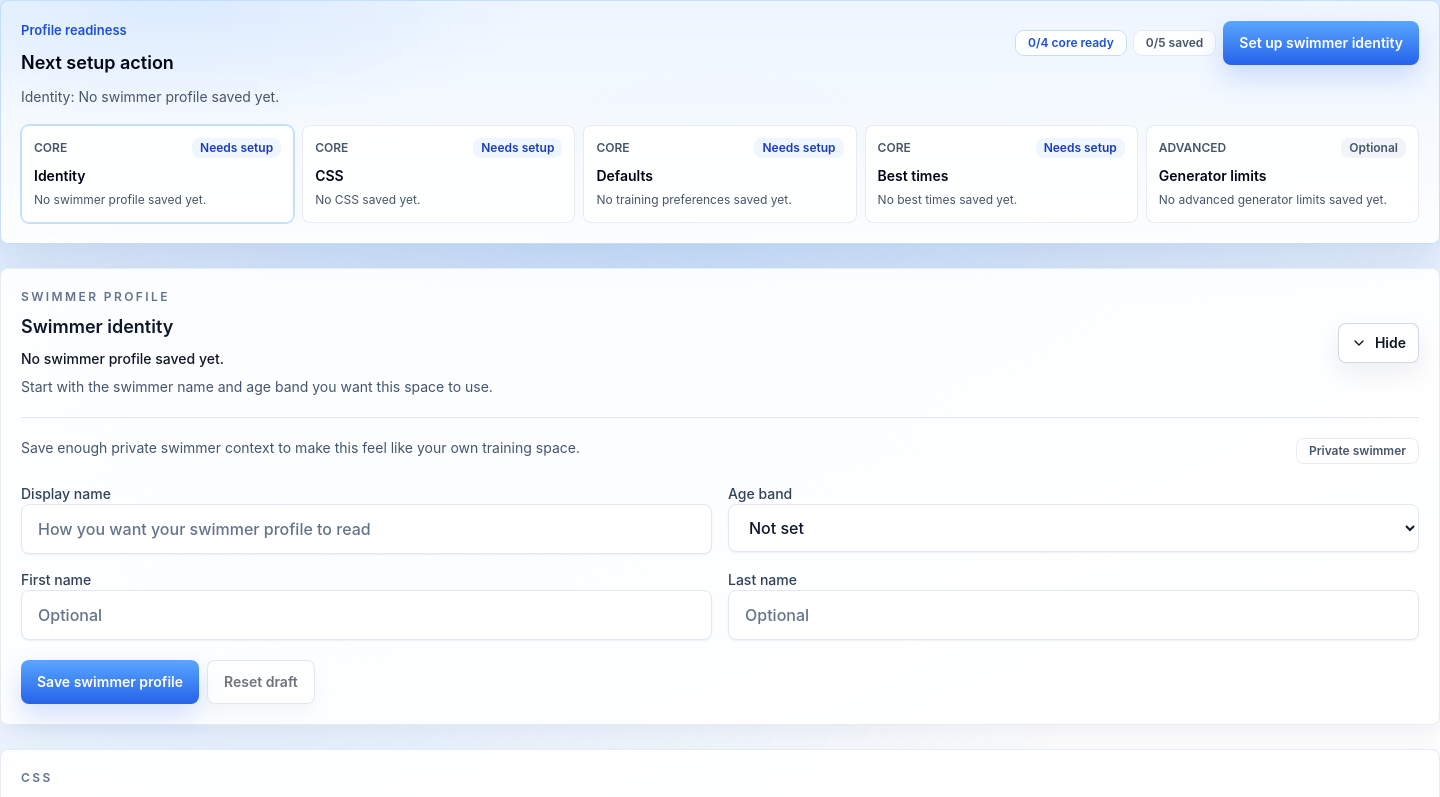
Test: AthleteProfileHub › keeps the profile section open when save fails
This screenshot has width=1440, height=797.
Type "Poolside Stian" into the field with test id "athlete-profile-display-name".
click(366, 528); type("Poolside Stian")  # box left=21, top=504, right=712, bottom=554
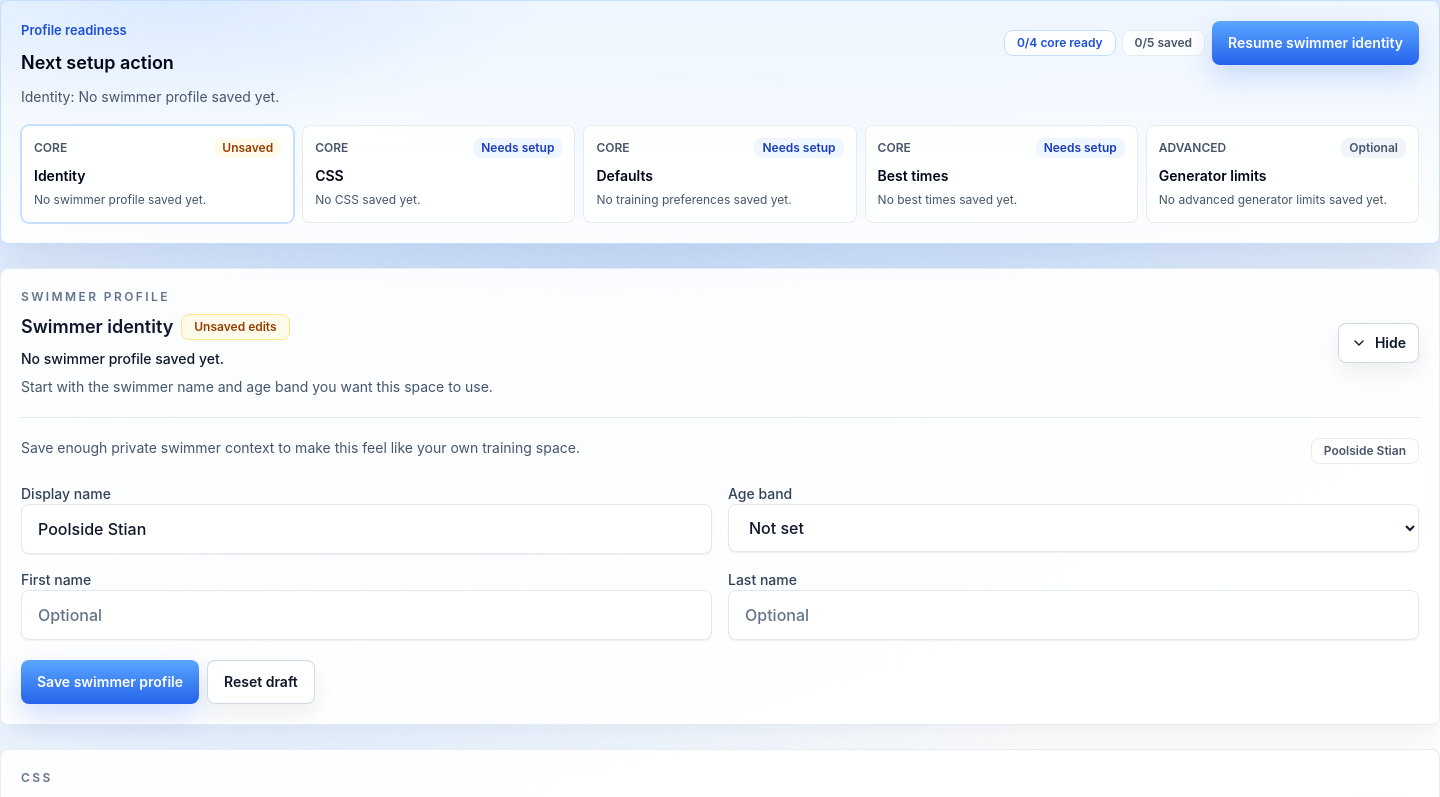
Click the button with test id "athlete-profile-save".
click(110, 682)  # box left=21, top=660, right=199, bottom=704
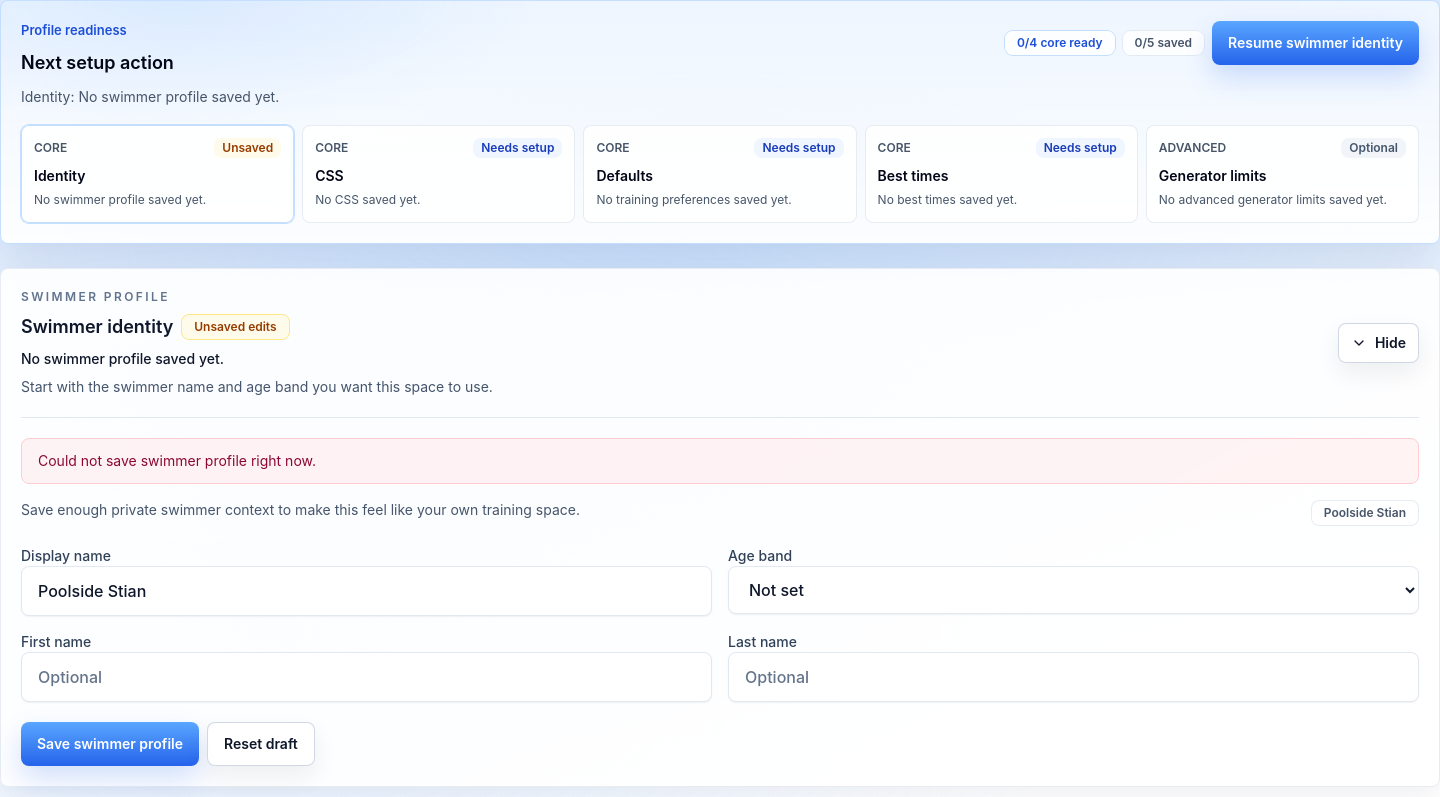
Now the text "Could not save swimmer profile right now." is shown, box left=21, top=438, right=1419, bottom=484
